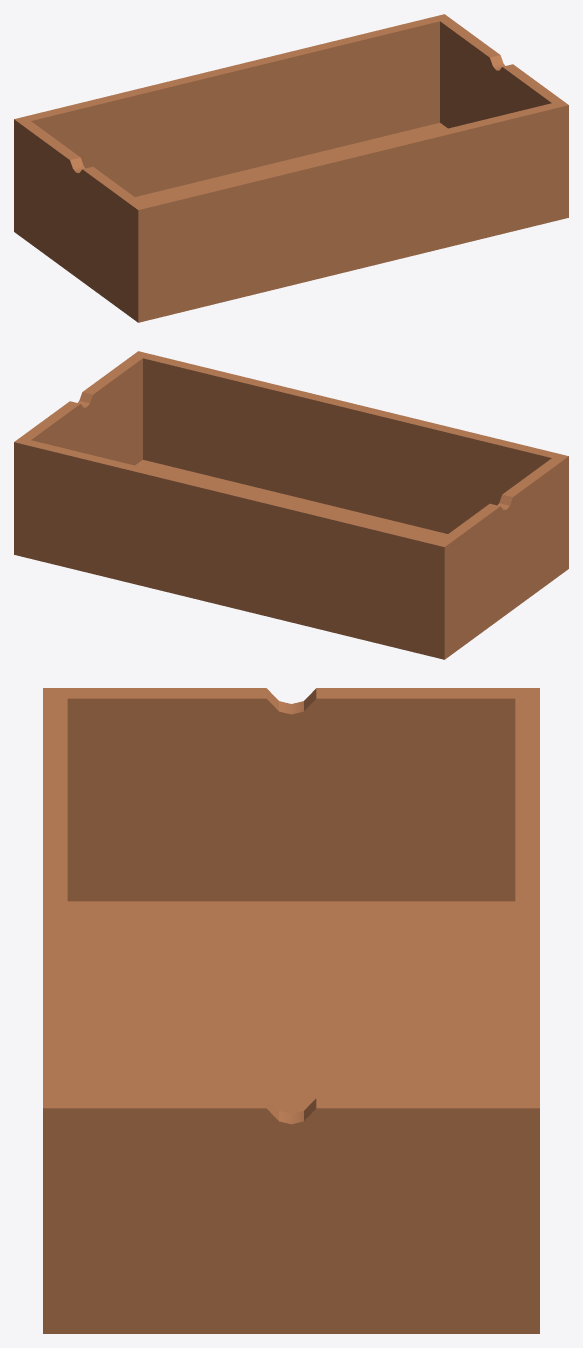
3 renders of one model, top to bottom at view 1: azimuth 30°, elevation 25°; view 2: azimuth 150°, elevation 25°; view 3: azimuth 270°, elevation 25°, orthographic. The views are drawn at different scales.
Parts seen in each view (by area): view 1: Mesh_Box_03; view 2: Mesh_Box_03; view 3: Mesh_Box_03.
Boxes of the visible parts, left/top/right/bottom form: Mesh_Box_03: left=14, top=14, right=568, bottom=322; Mesh_Box_03: left=14, top=351, right=568, bottom=659; Mesh_Box_03: left=43, top=688, right=539, bottom=1333.
Bounding box in the file's own units: 0.4 × 0.1 × 0.2.
Materials: 1 (1 with a texture image).
